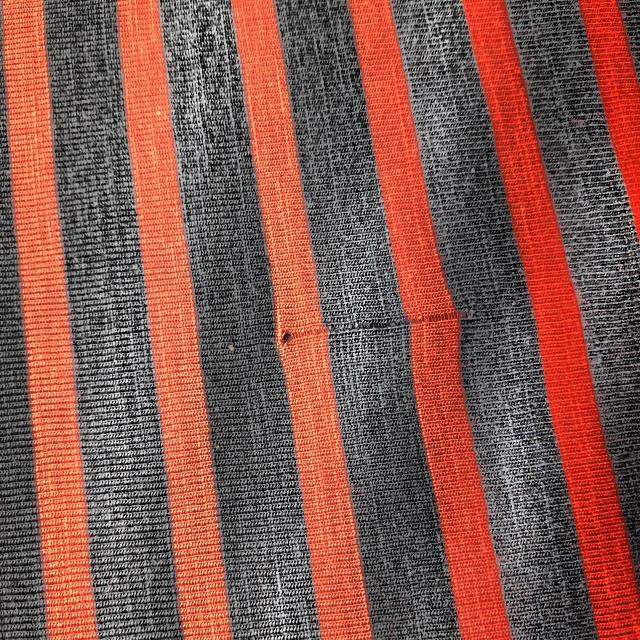Hole: (222, 336, 241, 358)
Stitch: (262, 301, 502, 355)
